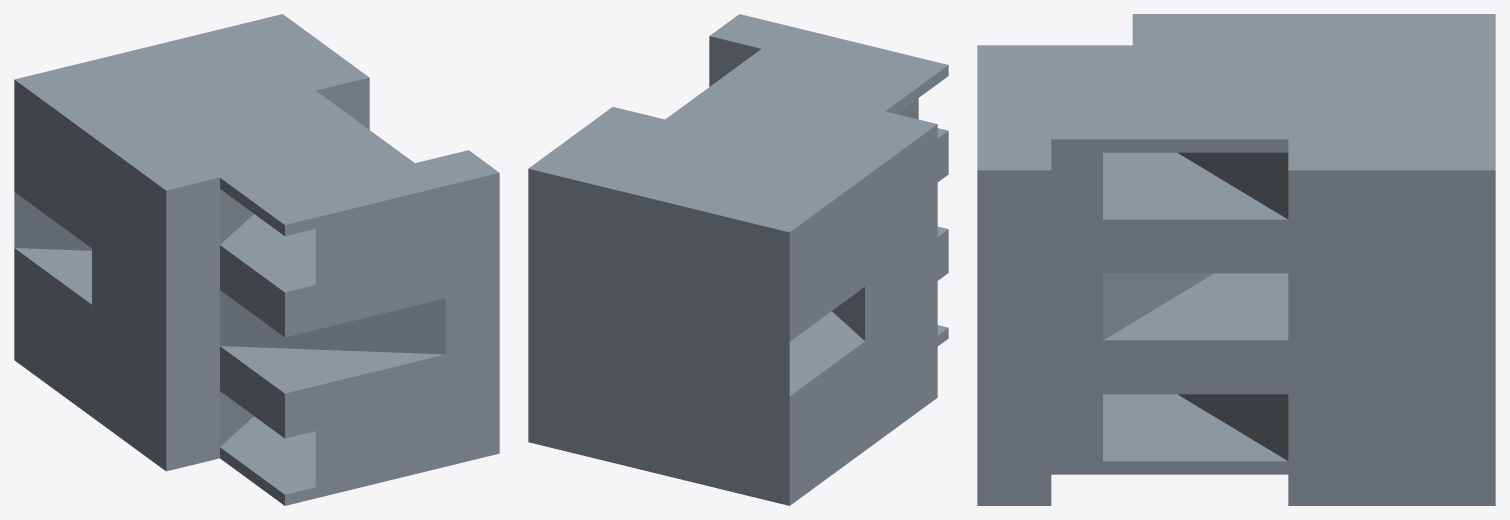
Rendered from teststairtower.obj.
3 renders of one model, left to right at view 1: azimuth 30°, elevation 25°; view 2: azimuth 150°, elevation 25°; view 3: azimuth 270°, elevation 25°, orthographic. The views are drawn at different scales.
Visible parts, largest first — view 1: 5c34ff3cf72c2715eaad903f_ID3; view 2: 5c34ff3cf72c2715eaad903f_ID3; view 3: 5c34ff3cf72c2715eaad903f_ID3.
Part boxes in pixels (left/top/right/bottom): 5c34ff3cf72c2715eaad903f_ID3: left=14, top=14, right=499, bottom=505; 5c34ff3cf72c2715eaad903f_ID3: left=528, top=14, right=948, bottom=505; 5c34ff3cf72c2715eaad903f_ID3: left=977, top=14, right=1495, bottom=505.
Bounding box in the file's own units: 5 × 5 × 7.
